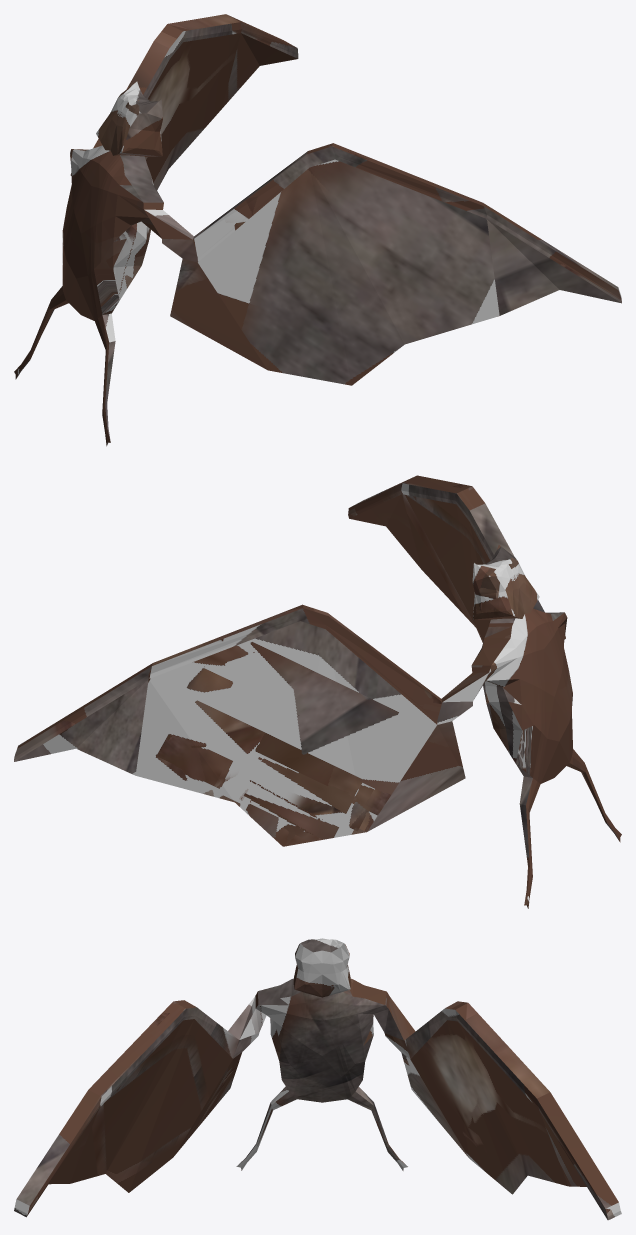
Rendered from Enemigo124.obj.
3 views of the same model, one above another, from view 1: azimuth 30°, elevation 25°; view 2: azimuth 150°, elevation 25°; view 3: azimuth 270°, elevation 25° (orthographic). The views are drawn at different scales.
Visible parts, largest first — view 1: Plano; view 2: Plano; view 3: Plano.
Part boxes in pixels (x1=…): Plano: x1=14, y1=14, x2=621, y2=446; Plano: x1=14, y1=475, x2=621, y2=908; Plano: x1=14, y1=938, x2=621, y2=1220.
Bounding box in the file's own units: 1.01 × 0.7267 × 1.5.
1 material, 1 textured.
